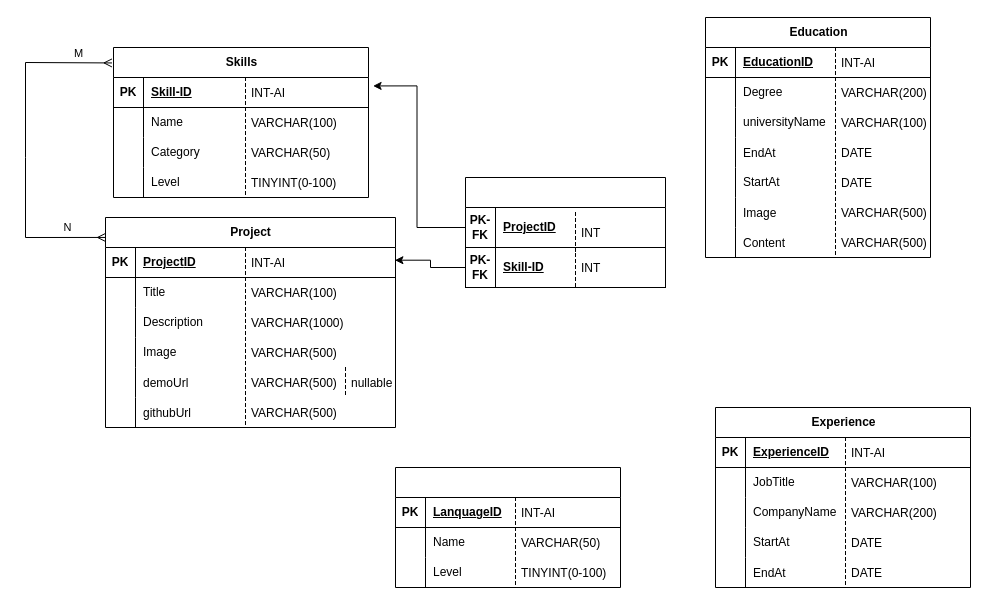
This 988x605 diagram has some shape labels left out. The shapes that lost their labels are listed below. From the top down, each one's box as (x1, y1, x2, y2) in pixels, then its label:
(464, 176, 666, 288): ProjectSkills
(394, 466, 620, 588): Languages
